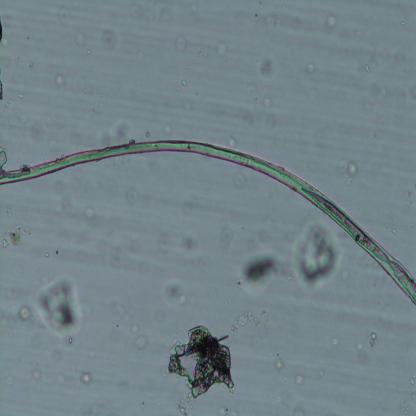Background material: (166, 322, 236, 398), (294, 221, 343, 294), (37, 278, 82, 340), (236, 2, 293, 40), (240, 250, 283, 291), (97, 238, 135, 274), (233, 305, 273, 330), (362, 70, 394, 101), (99, 112, 128, 141), (0, 224, 32, 249), (370, 103, 392, 137), (161, 280, 187, 308), (99, 24, 121, 51), (258, 54, 279, 79), (104, 377, 130, 397), (131, 320, 147, 352), (343, 159, 359, 189), (358, 50, 376, 76), (179, 230, 200, 252), (114, 304, 133, 324), (245, 79, 261, 100), (172, 34, 188, 52), (213, 37, 228, 56), (0, 21, 10, 49), (0, 147, 9, 178), (193, 48, 211, 62), (79, 370, 93, 387), (82, 204, 94, 222), (366, 329, 378, 347), (324, 12, 338, 27), (398, 13, 412, 28), (19, 306, 33, 321), (302, 61, 316, 74), (53, 72, 66, 86), (273, 358, 285, 373), (84, 347, 97, 360), (226, 134, 237, 148), (294, 372, 305, 385), (32, 368, 42, 382), (0, 76, 5, 103), (180, 76, 191, 88), (332, 336, 338, 348)
Microfibre: (0, 135, 416, 308)
